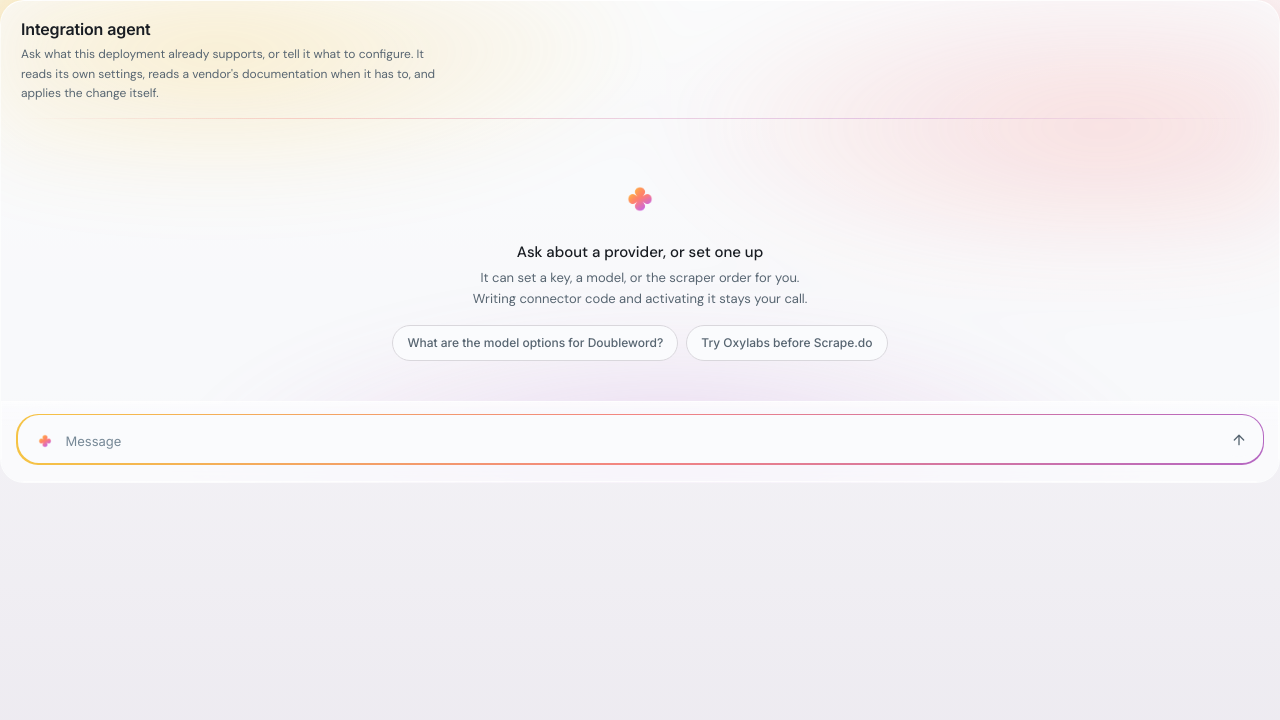
Integration agent panel › renders a fenced code block as code rather than literal backticks
Type "Add Groq" into the text box named "Message the integration agent".
click(639, 442); type("Add Groq")  # box [66,426,1212,458]
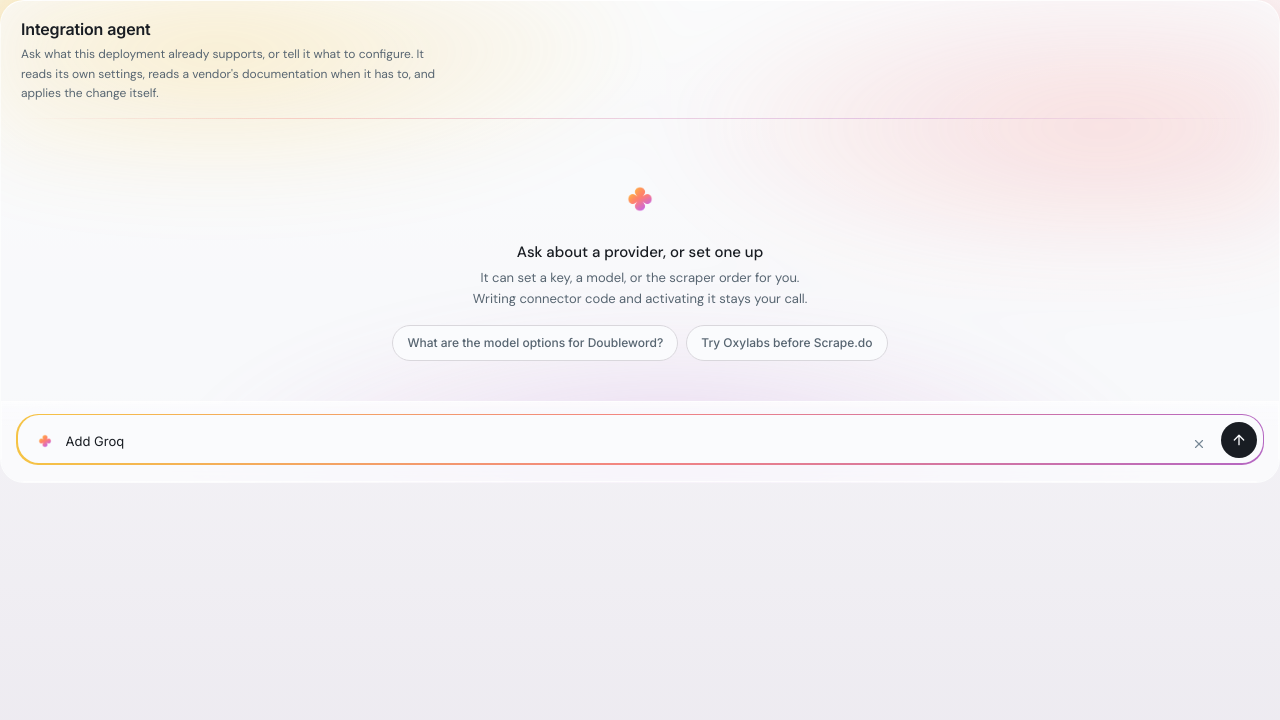
Press Enter in the text box named "Message the integration agent", box [66,426,1176,458]
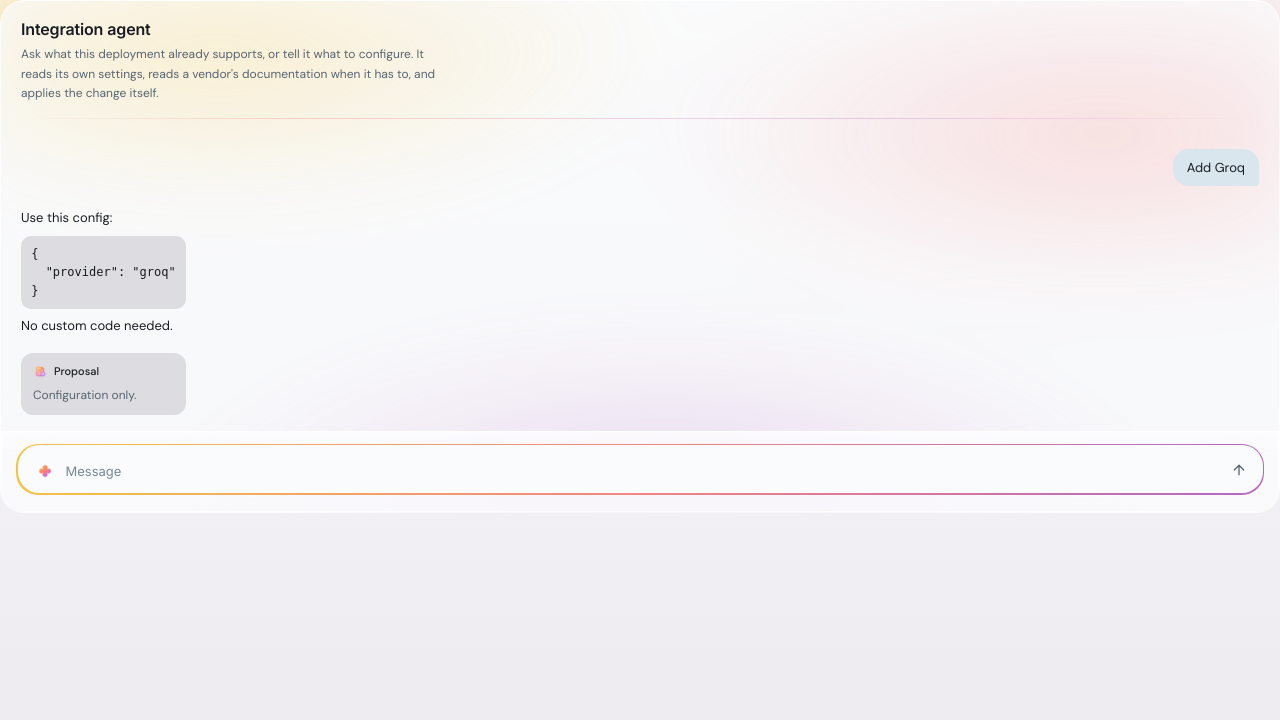
Now the text "Use this config:" is shown, box [21,209,112,226]
Now the text "No custom code needed." is shown, box [21,316,186,337]
Now the element showing "{ \"provider\": \"groq\" }" is shown, box [21,236,186,309]
